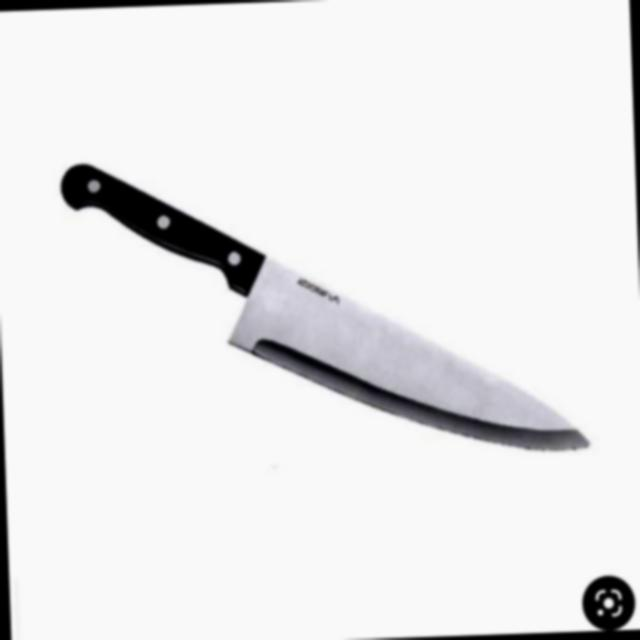knife: (35, 147, 605, 455)
